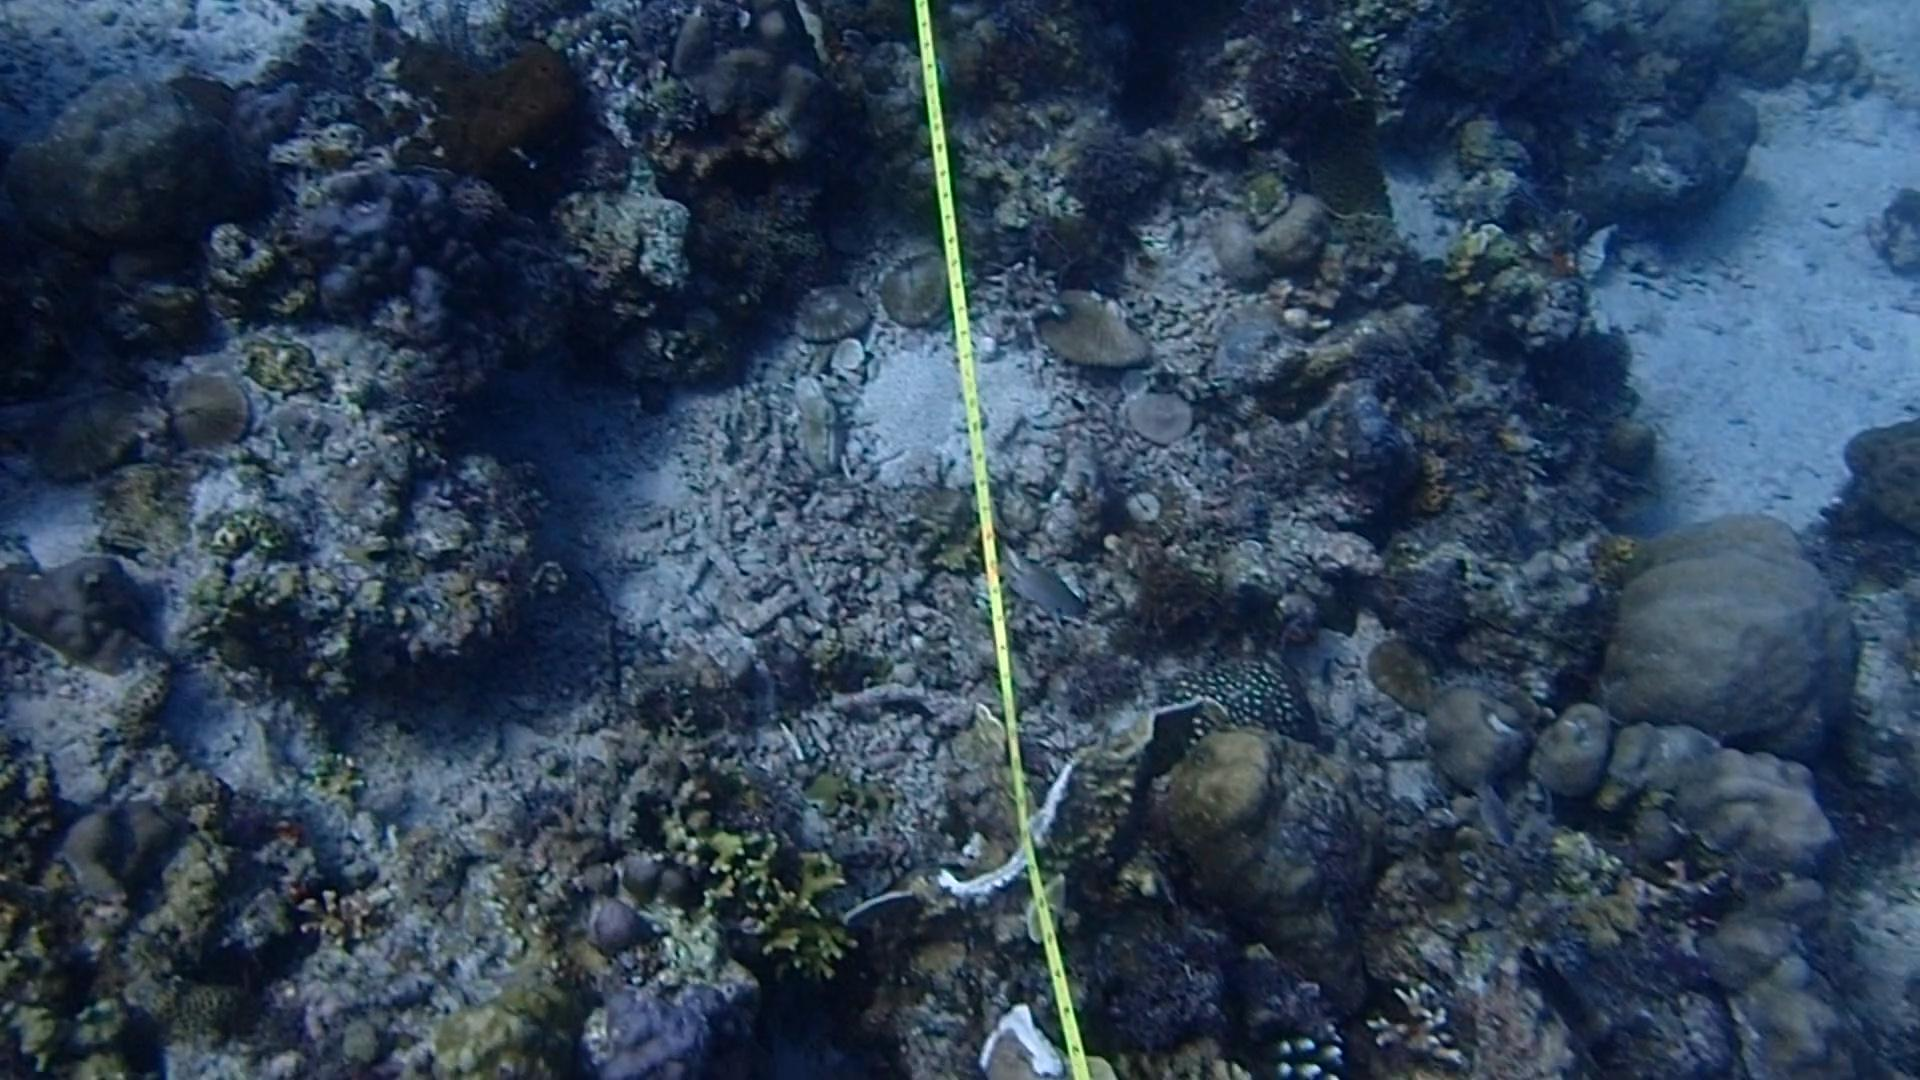Light Fish: (993, 530, 1096, 642)
